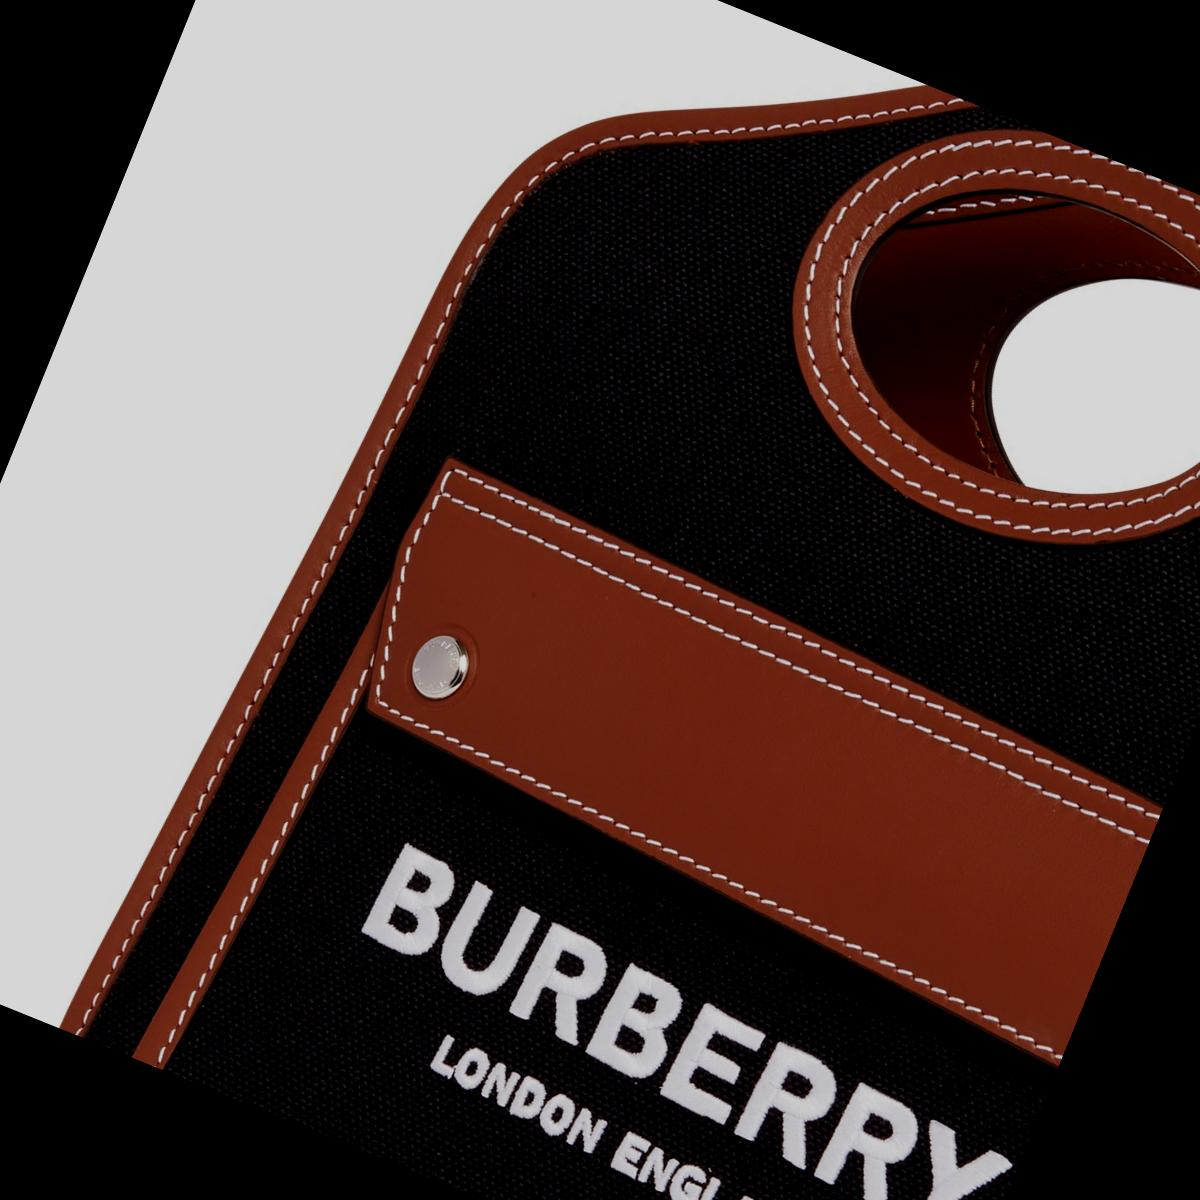BURBERRY: (333, 837, 1036, 1200)
